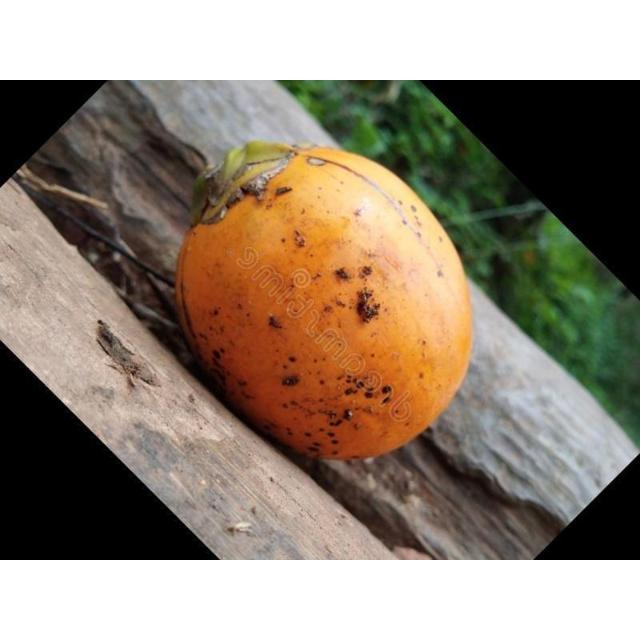good: (174, 140, 474, 462)
